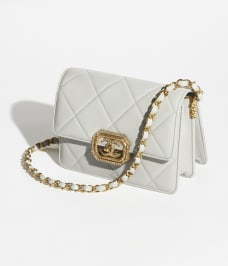channel: (47, 52, 212, 200), (139, 84, 183, 145), (79, 130, 138, 171)
